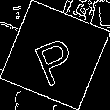P_NW: (28, 25, 82, 85)
